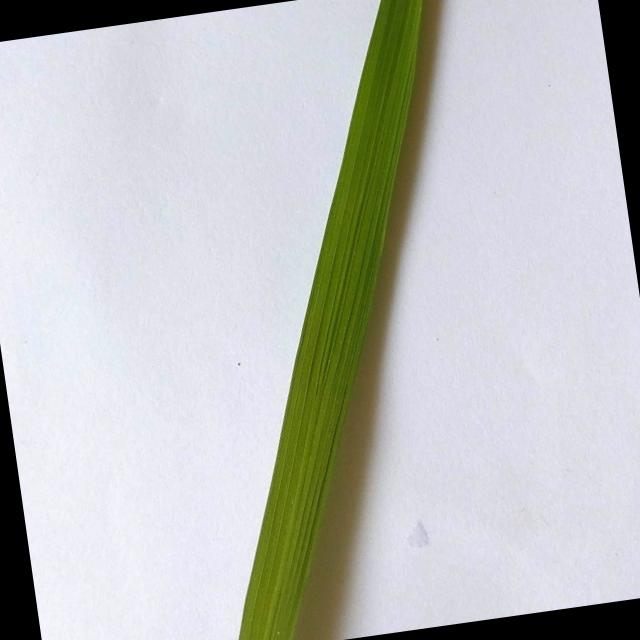Rice_Healthy: (239, 0, 423, 640)
